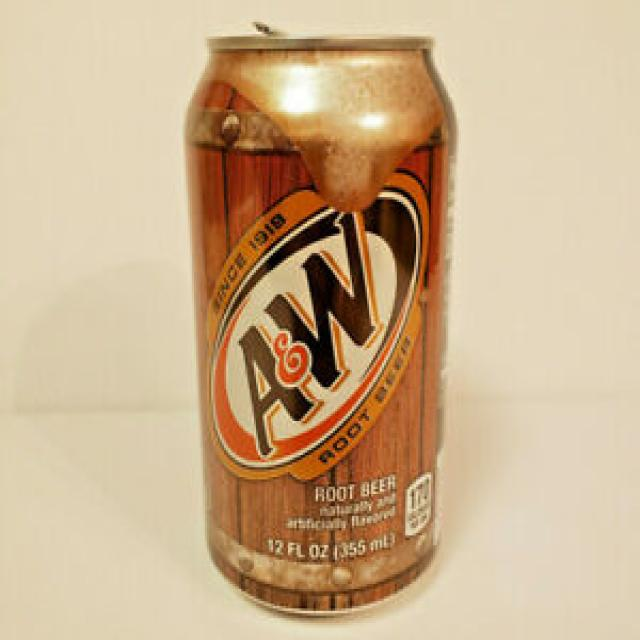Cans: (166, 0, 465, 635)
